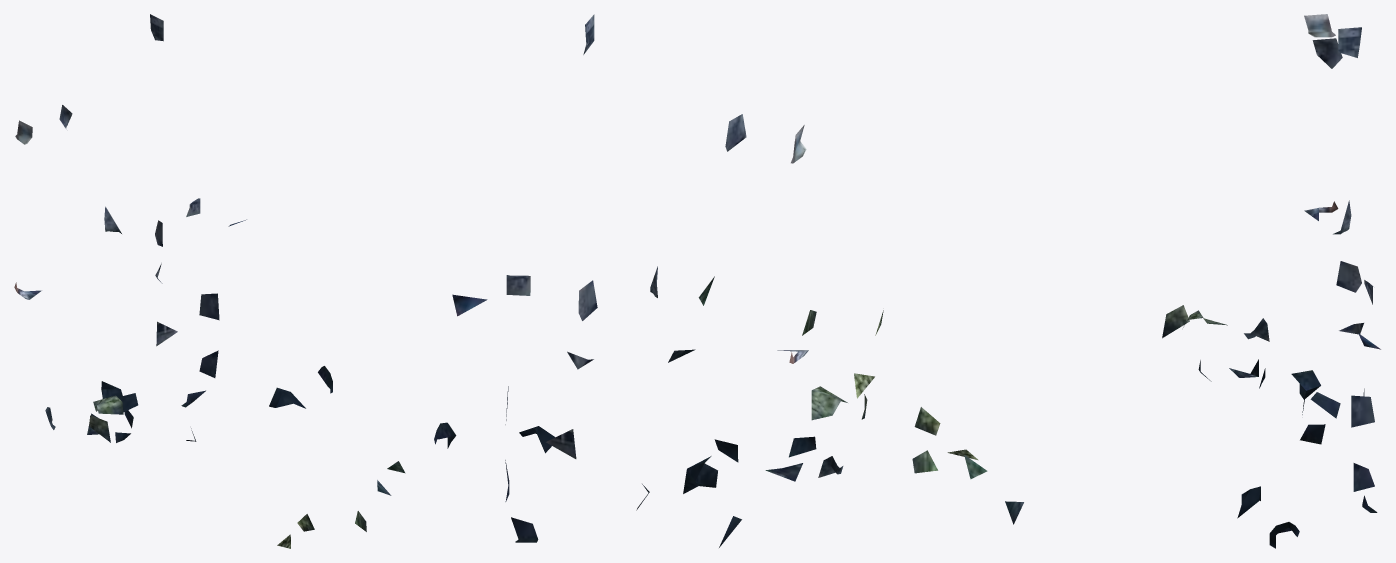
The picture shows the model from 3 angles, left to right: view 1: azimuth 30°, elevation 25°; view 2: azimuth 150°, elevation 25°; view 3: azimuth 270°, elevation 25°; orthographic projection. The views are drawn at different scales.
Visible parts, largest first — view 1: 30436272704361704607_1; view 2: 30436272704361704607_1; view 3: 30436272704361704607_1.
Boxes of the visible parts, x1,y1,x2,y2 form: 30436272704361704607_1: (14, 14, 405, 548); 30436272704361704607_1: (434, 14, 883, 547); 30436272704361704607_1: (912, 14, 1380, 548).
Bounding box in the file's own units: 27.31 × 36.36 × 33.63.
1 material, 1 textured.
